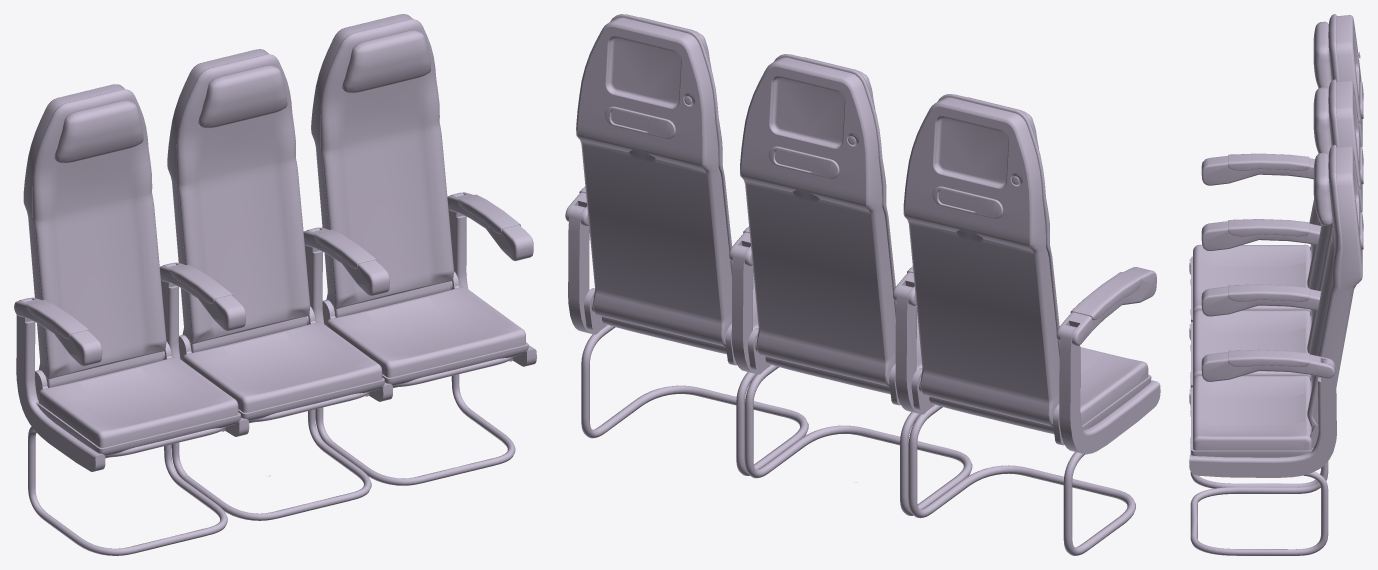
The model's file is ES_seats.fbx.
3 renders of one model, left to right at view 1: azimuth 30°, elevation 25°; view 2: azimuth 150°, elevation 25°; view 3: azimuth 270°, elevation 25°, orthographic. The views are drawn at different scales.
Visible parts, largest first — view 1: Economy_Seat, Economy_back_3_80, Economy_back_1_80, Economy_back_2_80, Armrest_1_80, Armrest_2_80, Armrest_4_80, Armrest_3_80; view 2: Economy_back_1_80, Economy_back_2_80, Economy_back_3_80, Economy_Seat, Armrest_1_80; view 3: Economy_Seat, Economy_back_3_80, Economy_back_2_80, Economy_back_1_80, Armrest_4_80, Armrest_3_80, Armrest_2_80, Armrest_1_80.
Part boxes in pixels (left/top/right/bottom): Economy_Seat: left=16, top=192, right=536, bottom=555; Economy_back_3_80: left=311, top=14, right=453, bottom=317; Economy_back_1_80: left=23, top=84, right=166, bottom=387; Economy_back_2_80: left=167, top=49, right=310, bottom=352; Armrest_1_80: left=14, top=297, right=102, bottom=366; Armrest_2_80: left=159, top=262, right=245, bottom=331; Armrest_4_80: left=447, top=192, right=533, bottom=261; Armrest_3_80: left=303, top=227, right=389, bottom=296; Economy_back_1_80: left=903, top=94, right=1059, bottom=426; Economy_back_2_80: left=740, top=54, right=896, bottom=386; Economy_back_3_80: left=576, top=14, right=732, bottom=346; Economy_Seat: left=568, top=205, right=1160, bottom=555; Armrest_1_80: left=1056, top=267, right=1156, bottom=345; Economy_Seat: left=1189, top=244, right=1336, bottom=555; Economy_back_3_80: left=1307, top=145, right=1363, bottom=429; Economy_back_2_80: left=1307, top=79, right=1363, bottom=352; Economy_back_1_80: left=1307, top=14, right=1363, bottom=287; Armrest_4_80: left=1201, top=349, right=1334, bottom=381; Armrest_3_80: left=1201, top=284, right=1321, bottom=316; Armrest_2_80: left=1201, top=219, right=1321, bottom=250; Armrest_1_80: left=1201, top=153, right=1314, bottom=185.
Size of the model in its own units: 161 by 134 by 57.71.
